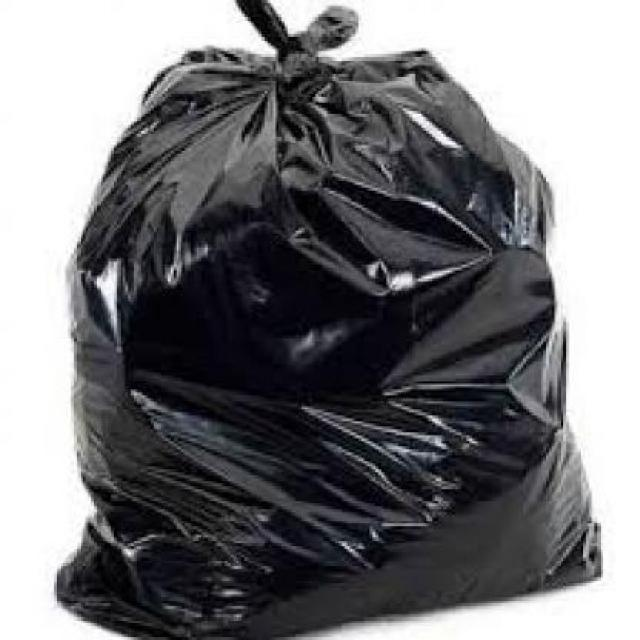garbage: (51, 17, 606, 606)
